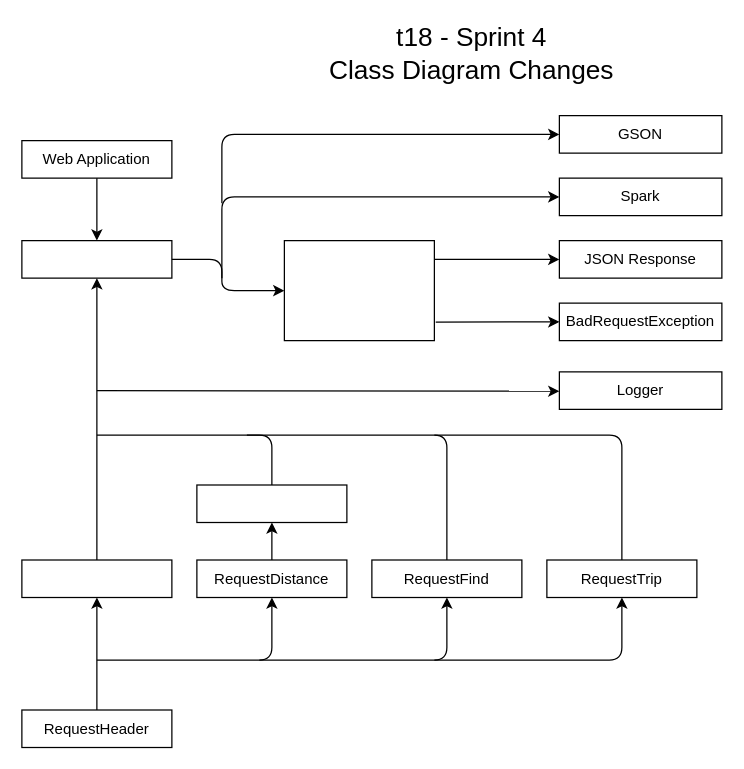
This 744x769 diagram has some shape labels left out. The shapes that lost their labels are listed below. From the top down, each one's centre as x and y in pixels, then its label:
At (96,258): "Microserver".
At (358,290): "JSON Validator".
At (271,503): "DistanceCalculator".
At (96,578): "ReqestConfig".
